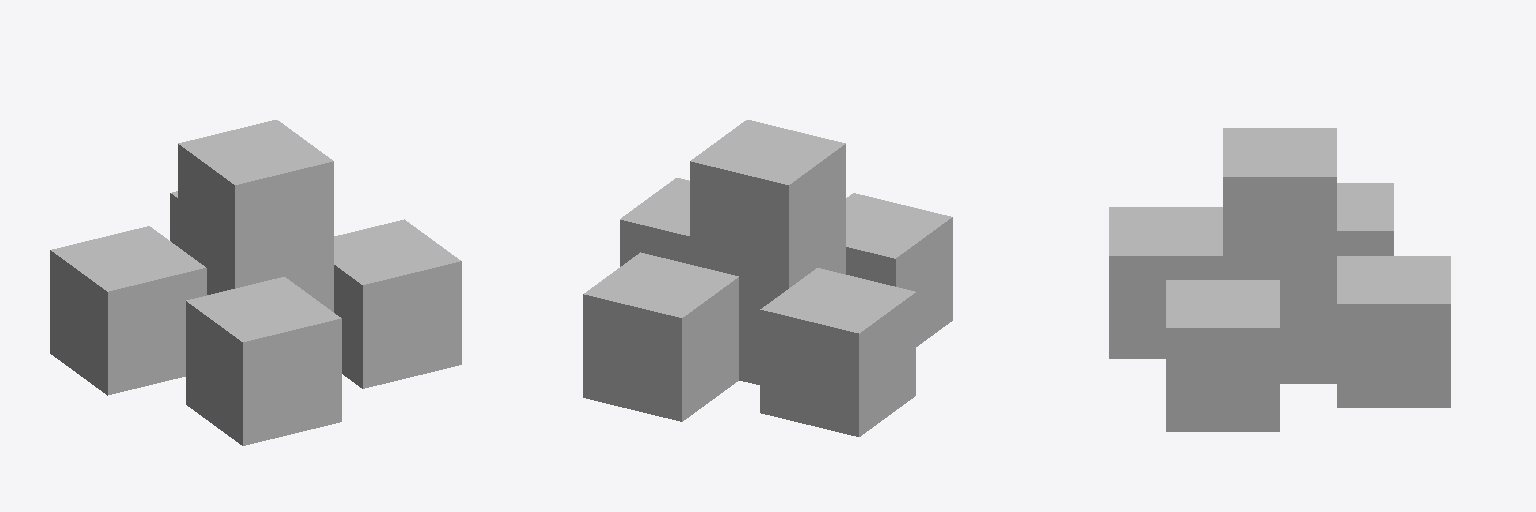
Rendered from Ore.obj.
3 renders of one model, left to right at view 1: azimuth 30°, elevation 25°; view 2: azimuth 150°, elevation 25°; view 3: azimuth 270°, elevation 25°, orthographic.
Parts seen in each view (by area): view 1: initialShadingGroup pCube11; view 2: initialShadingGroup pCube11; view 3: initialShadingGroup pCube11.
Boxes of the visible parts, x1,y1,x2,y2 form: initialShadingGroup pCube11: [50, 120, 461, 445]; initialShadingGroup pCube11: [583, 120, 952, 436]; initialShadingGroup pCube11: [1109, 128, 1450, 431].
Size of the model in its own units: 0.9939 by 0.6626 by 0.9939.